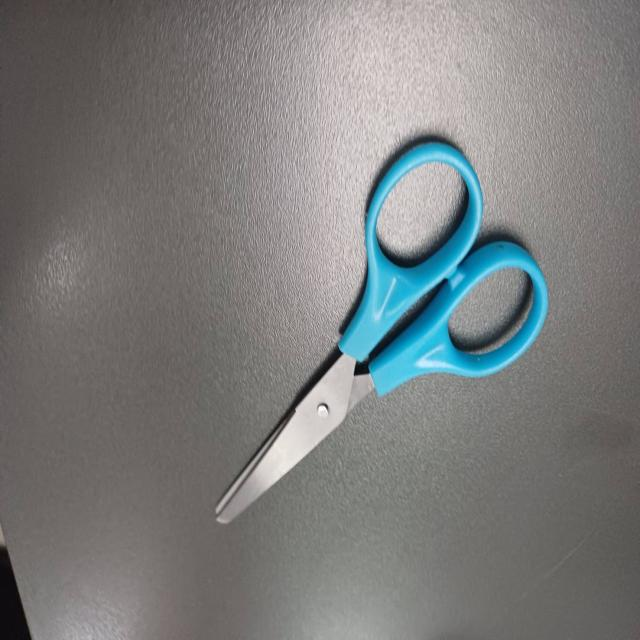scissors: (200, 110, 569, 582)
